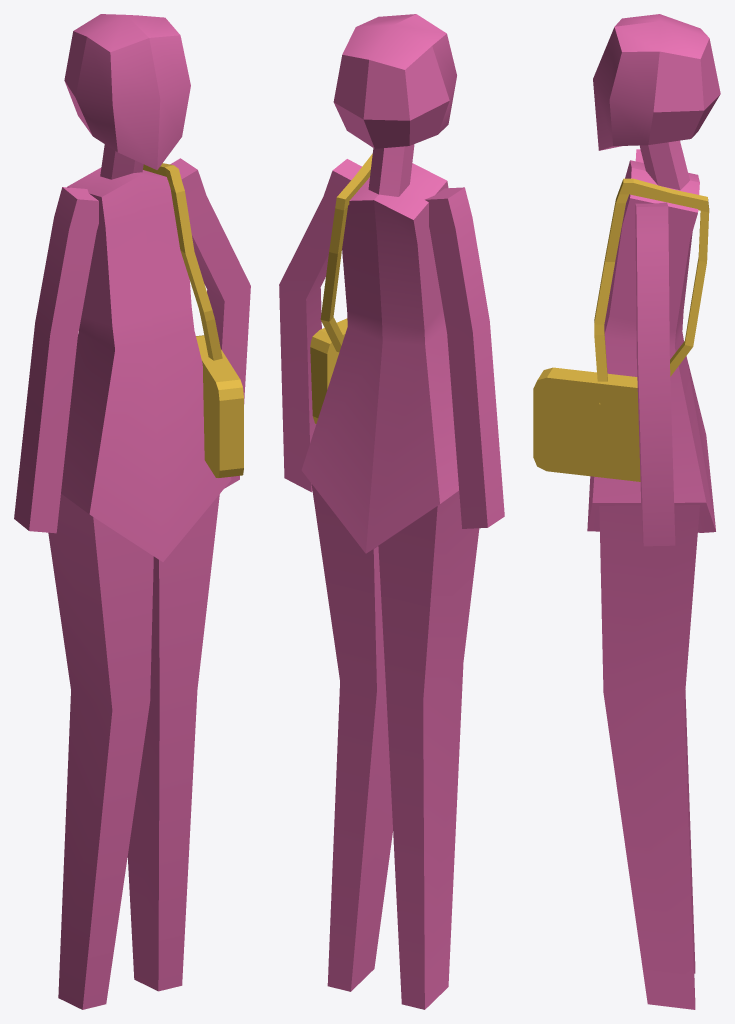
File: woman02.glb
The picture shows the model from 3 angles, left to right: view 1: azimuth 30°, elevation 25°; view 2: azimuth 150°, elevation 25°; view 3: azimuth 270°, elevation 25°; orthographic projection. The views are drawn at different scales.
Parts seen in each view (by area): view 1: woman02_col; view 2: woman02_col; view 3: woman02_col.
Boxes of the visible parts, box(x1,y1,x2,y2) form: woman02_col: box(14, 14, 250, 1009); woman02_col: box(279, 14, 504, 1009); woman02_col: box(533, 14, 720, 1009).
Bounding box in the file's own units: 2.86 × 12.29 × 2.17.
